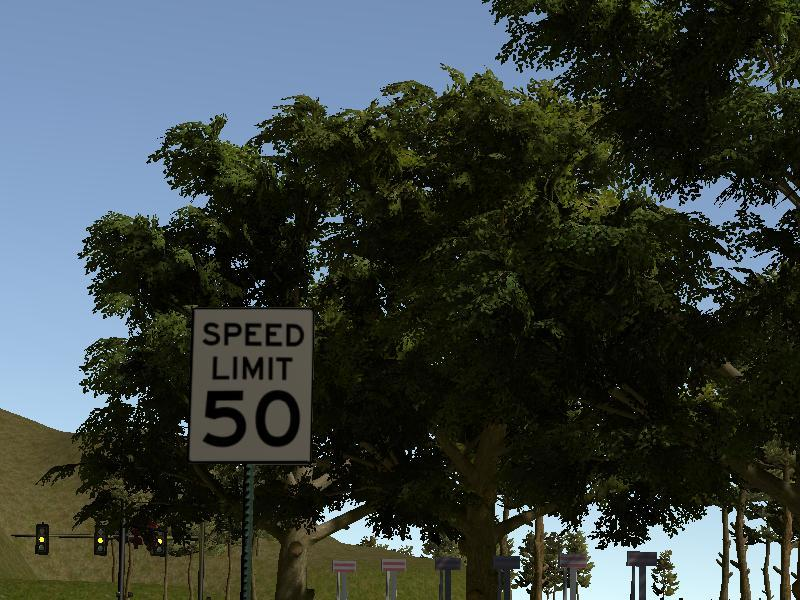Yellow: (35, 522, 50, 557), (94, 526, 107, 556)
